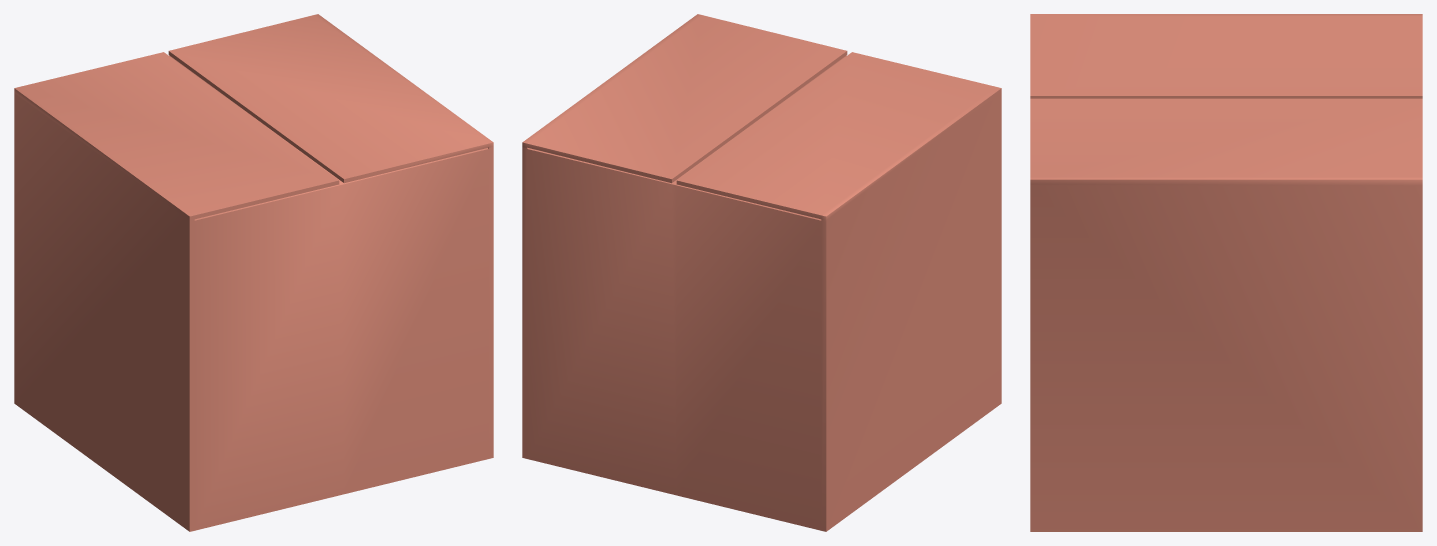
Rendered from ClosedCarboardBox.fbx.
3 views of the same model, side by side, from view 1: azimuth 30°, elevation 25°; view 2: azimuth 150°, elevation 25°; view 3: azimuth 270°, elevation 25° (orthographic). The views are drawn at different scales.
Visible parts, largest first — view 1: Closed CardboardBox; view 2: Closed CardboardBox; view 3: Closed CardboardBox.
Part boxes in pixels (left/top/right/bottom): Closed CardboardBox: left=14, top=14, right=493, bottom=531; Closed CardboardBox: left=522, top=14, right=1001, bottom=531; Closed CardboardBox: left=1030, top=14, right=1422, bottom=531.
Bounding box in the file's own units: 125 × 124 × 125.
